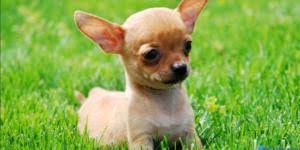chihuahua: (59, 3, 219, 150)
